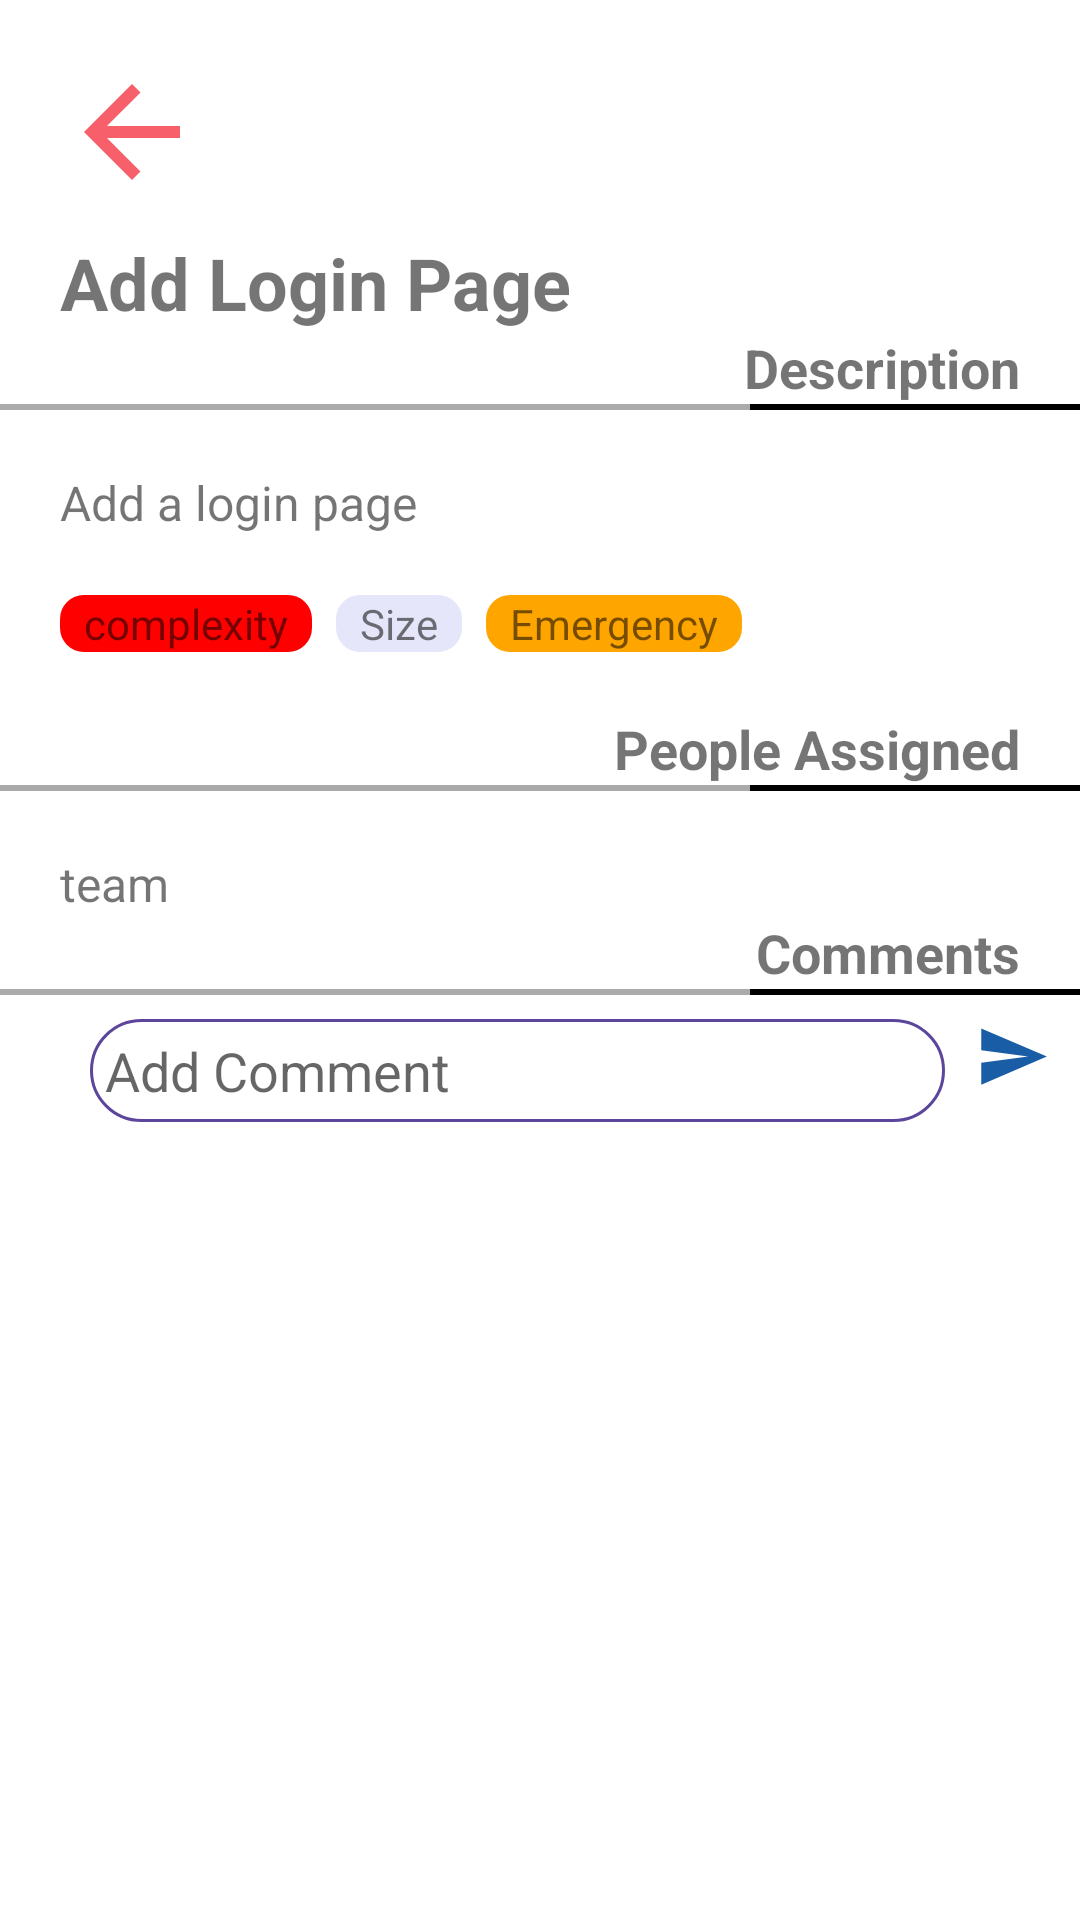

Point at icon controls on the screen. Image size 1080 × 1920, points as [x,y].
arrow back: [132,132]
send: [1014,1056]
